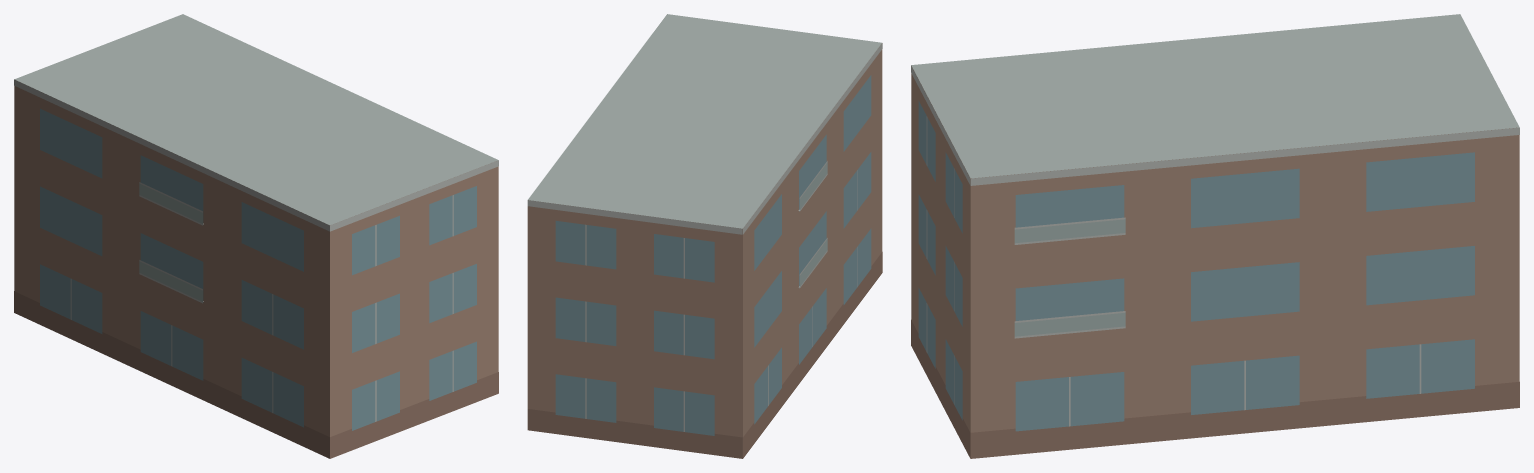
The model's file is survey-upis-32709174.glb.
The picture shows the model from 3 angles, left to right: view 1: azimuth 30°, elevation 25°; view 2: azimuth 150°, elevation 25°; view 3: azimuth 270°, elevation 25°; orthographic projection. The views are drawn at different scales.
Visible parts, largest first — view 1: survey-upis-32709174.tmp; view 2: survey-upis-32709174.tmp; view 3: survey-upis-32709174.tmp.
Boxes of the visible parts, left/top/right/bottom form: survey-upis-32709174.tmp: left=14, top=14, right=498, bottom=458; survey-upis-32709174.tmp: left=527, top=14, right=882, bottom=458; survey-upis-32709174.tmp: left=911, top=14, right=1519, bottom=458.
Bounding box in the file's own units: 11.52 × 9.15 × 18.01.
